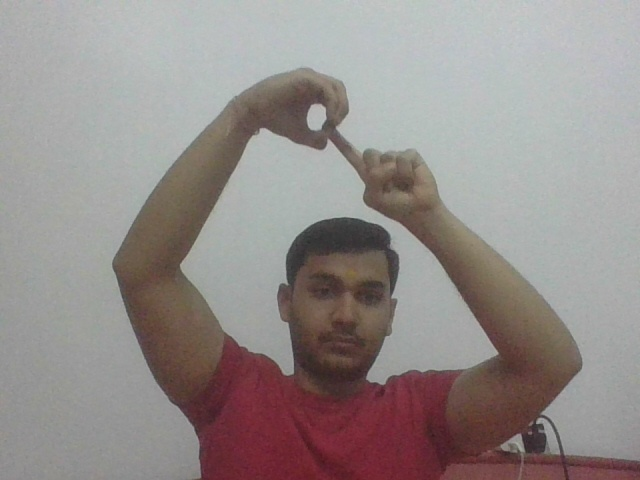Q: (271, 67, 421, 212)
